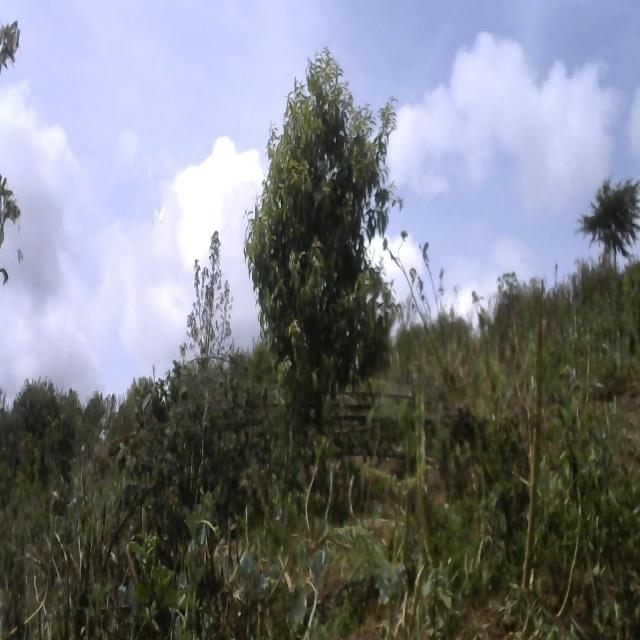Juniperus procesera: (575, 162, 640, 268)
Prunus Africana: (246, 44, 409, 457)
